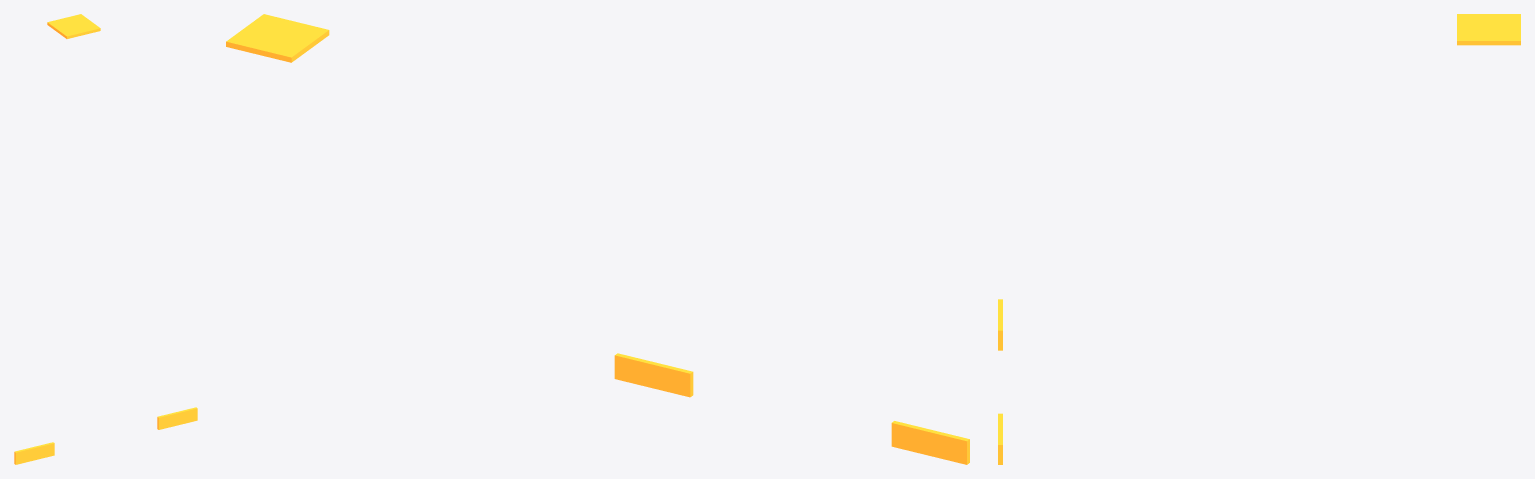
File: kiln_glow.glb
The picture shows the model from 3 angles, left to right: view 1: azimuth 30°, elevation 25°; view 2: azimuth 150°, elevation 25°; view 3: azimuth 270°, elevation 25°; orthographic projection. The views are drawn at different scales.
Parts seen in each view (by area): view 1: kiln_glow; view 2: kiln_glow; view 3: kiln_glow.
Boxes of the visible parts, bbox=[...] form: kiln_glow: bbox=[14, 14, 197, 464]; kiln_glow: bbox=[226, 14, 969, 464]; kiln_glow: bbox=[998, 14, 1520, 464].
Bounding box in the file's own units: 1.73 × 2.06 × 2.12.
